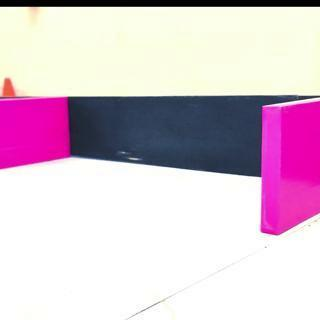xparking: (263, 108, 319, 225), (1, 101, 66, 166)
